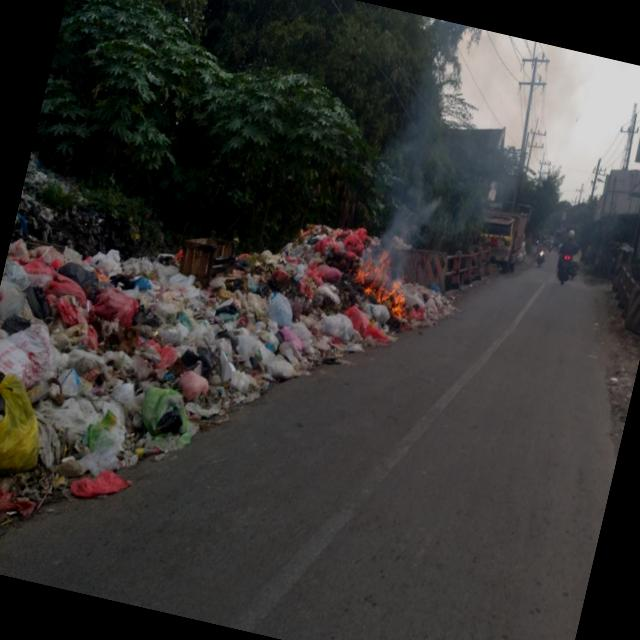garbage: (0, 130, 423, 614)
